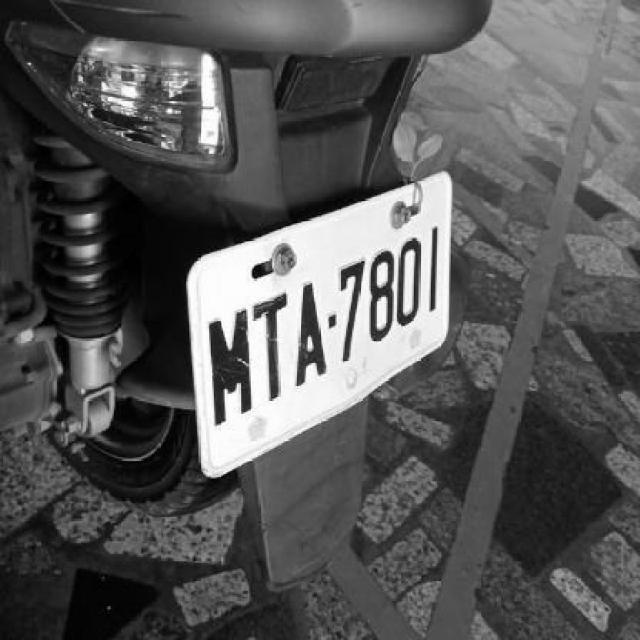-: (326, 311, 339, 329)
0: (397, 240, 423, 337)
1: (425, 224, 440, 324)
7: (335, 256, 368, 366)
8: (366, 246, 396, 349)
A: (292, 282, 326, 389)
M: (208, 308, 252, 426)
T: (252, 288, 291, 403)
